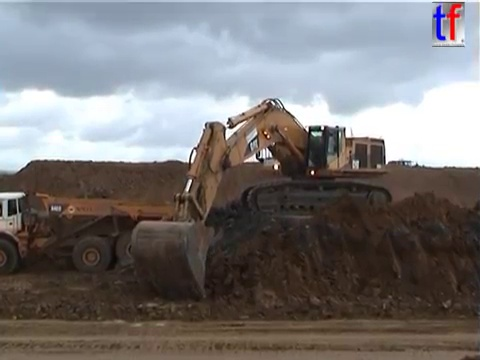excavator: (128, 95, 395, 302)
truck: (1, 189, 189, 277), (361, 159, 413, 185)
